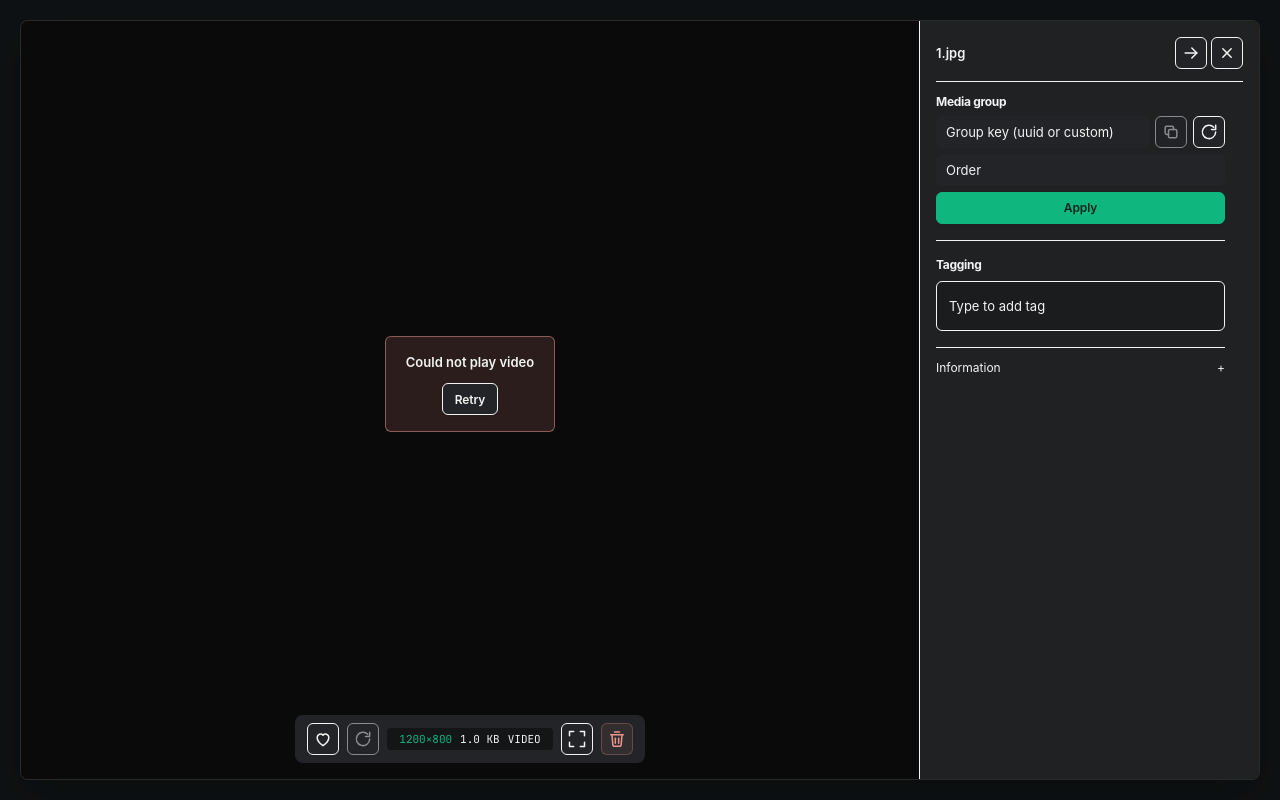
LightboxModal › shows a video error when native open fails
This screenshot has width=1280, height=800.
Expected: the message shows "Could not play video", 406,354 -> 534,370
Click the button "Retry" at (470, 399), box 442,383 -> 498,415
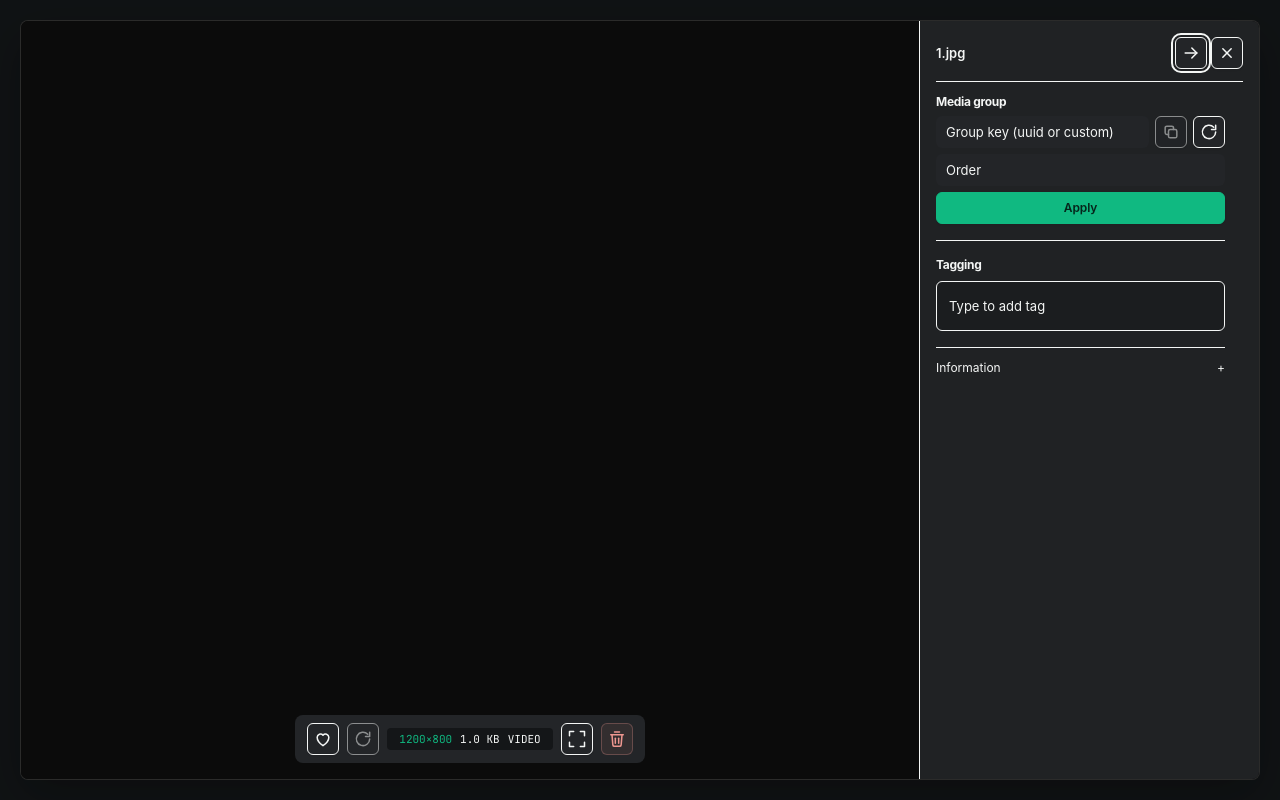
Expected: the element named "C:/media/1.mp4" is shown, 21,85 -> 919,683
